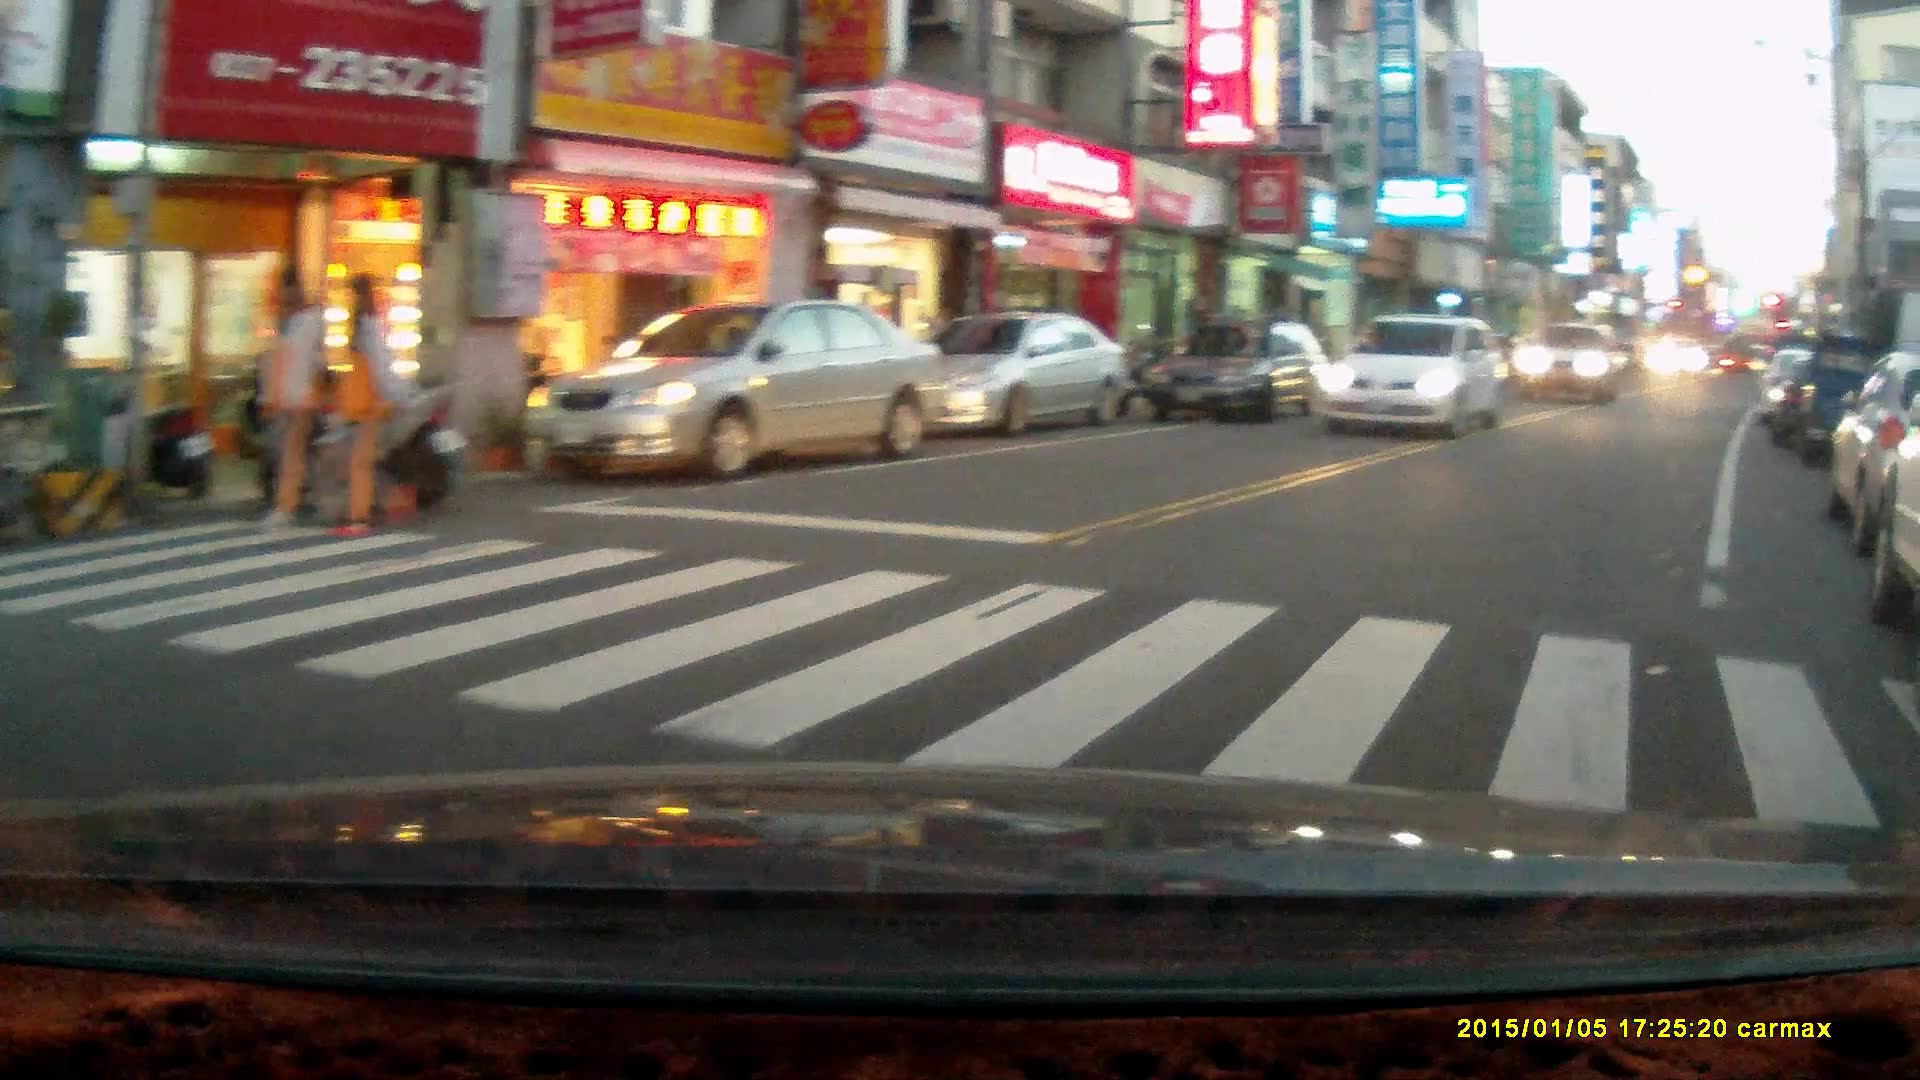pedestrian: (306, 275, 427, 542), (256, 265, 336, 534)
vehicle: (524, 299, 944, 481), (882, 313, 1129, 435), (1316, 312, 1511, 441), (1147, 325, 1338, 431), (1506, 321, 1633, 408), (1647, 336, 1708, 386)
